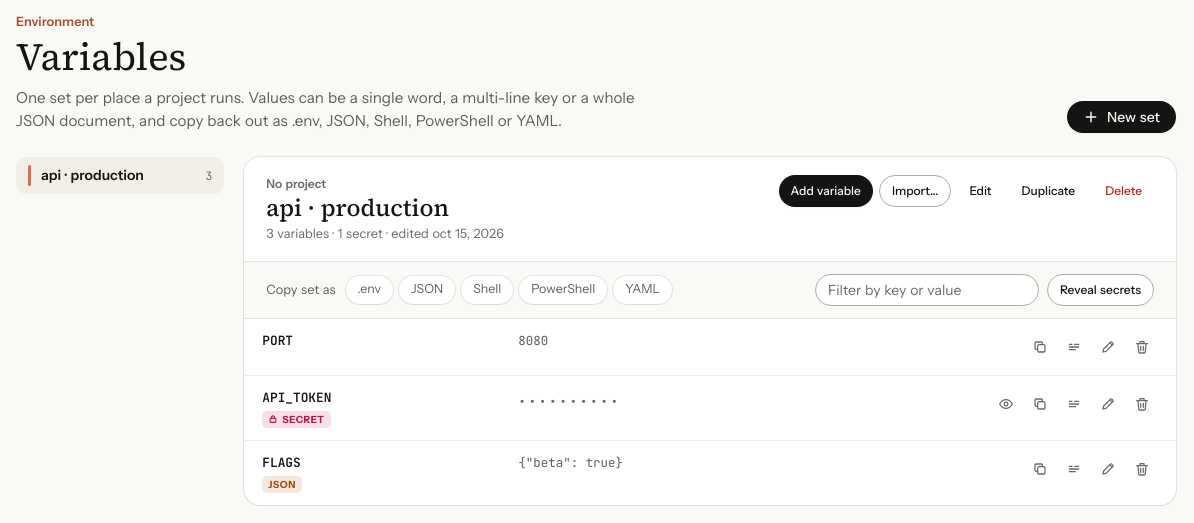
it: EnvPage › lists a set's variables and keeps a secret out of the page until it is revealed
The image size is (1194, 523).
Expected: the text "8080" is shown, [518, 332, 548, 348]
Expected: the text "JSON" is shown, [262, 476, 302, 493]
Step 1. Click the button named "Reveal API_TOKEN" → (1006, 404), box [990, 388, 1022, 420]
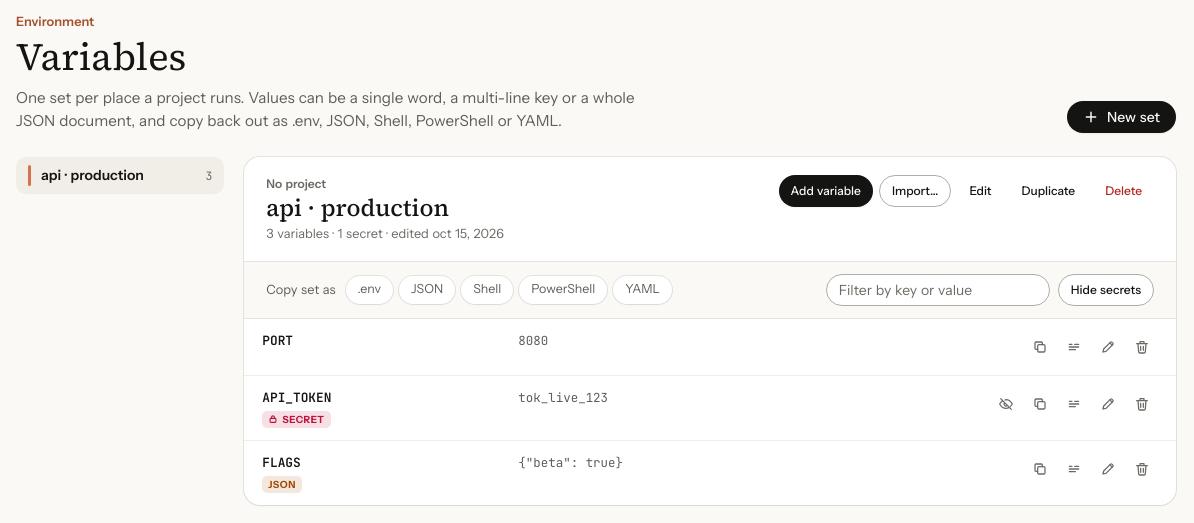
Expected: the text "tok_live_123" is shown, [518, 388, 608, 406]
Step 2. Click the button named "Hide API_TOKEN" → (1006, 404), box [990, 388, 1022, 420]
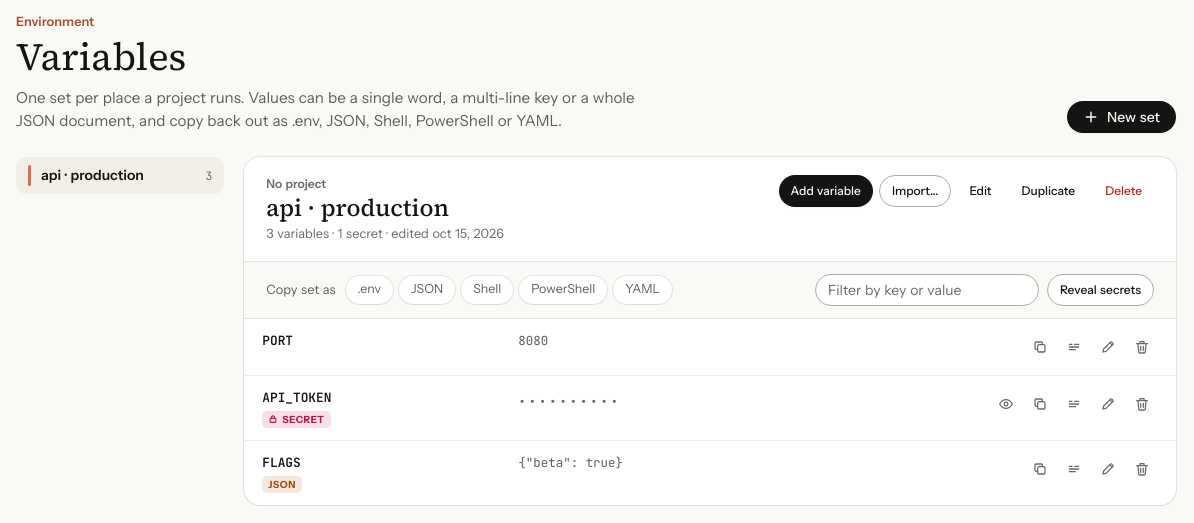
Expected: the text "tok_live_123" is gone
Step 3. Click the button "Reveal secrets" → (1100, 290), box [1047, 274, 1154, 306]
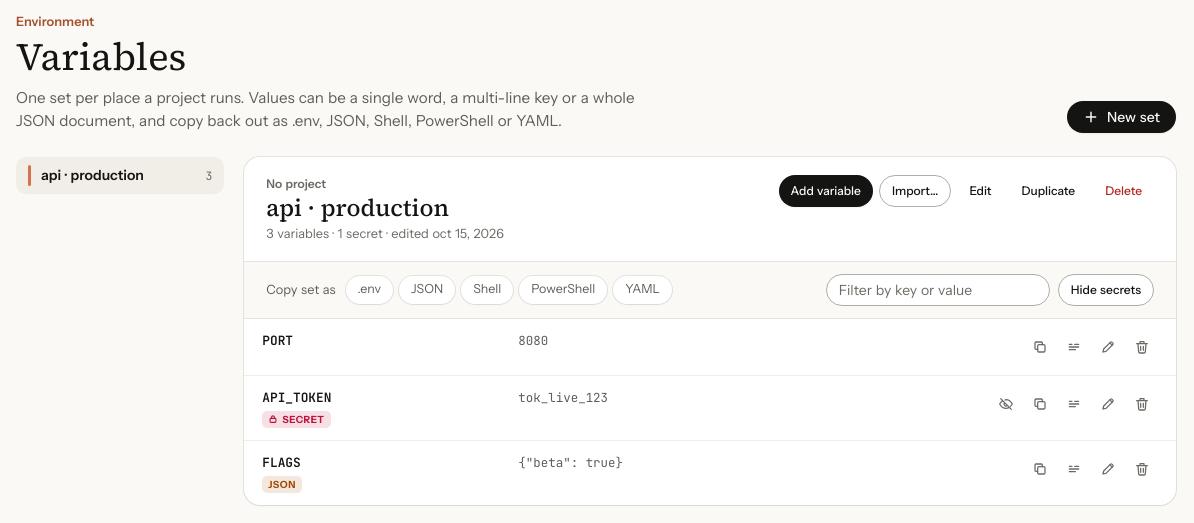
Expected: the text "tok_live_123" is shown, [518, 388, 608, 406]
